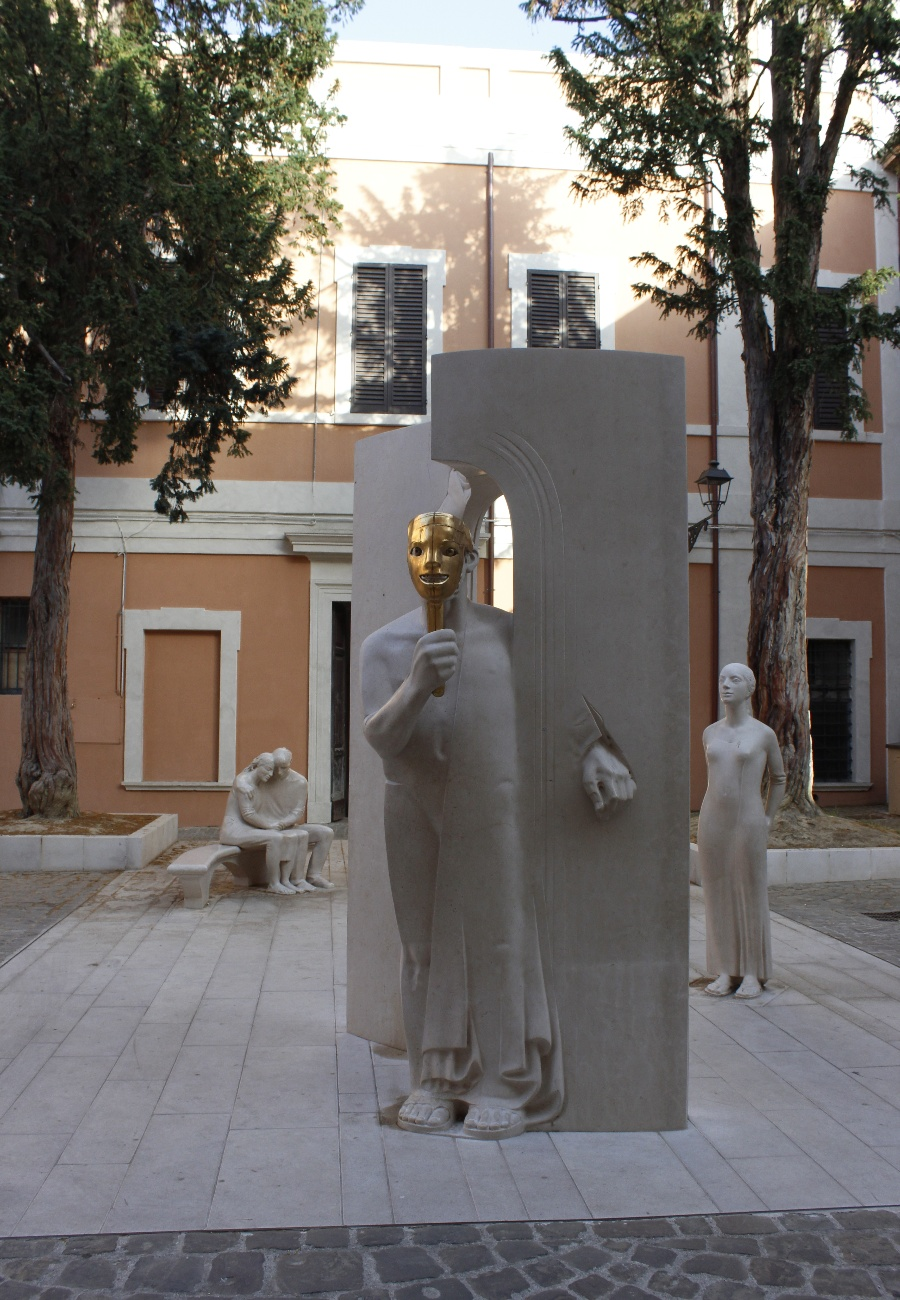Scultura della Memoria: (357, 511, 640, 1142)
